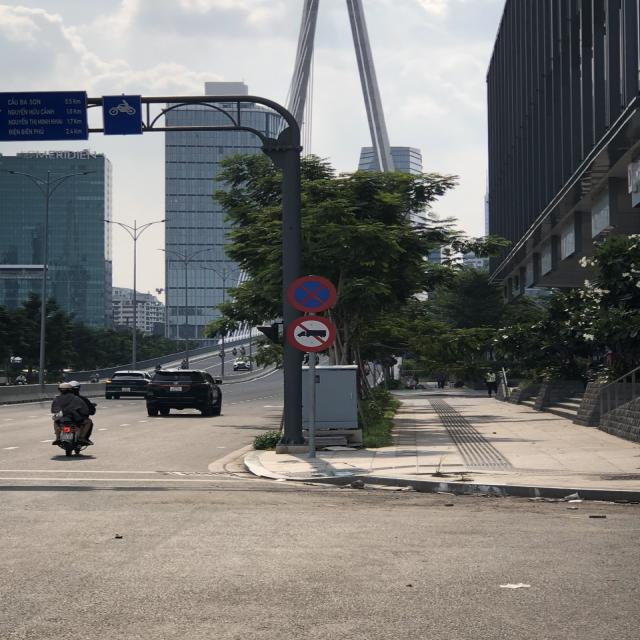Bien bao cam dung xe va do xe: (284, 271, 342, 315)
Bien bao cam xe so-mi ro-mooc: (283, 313, 346, 356)
